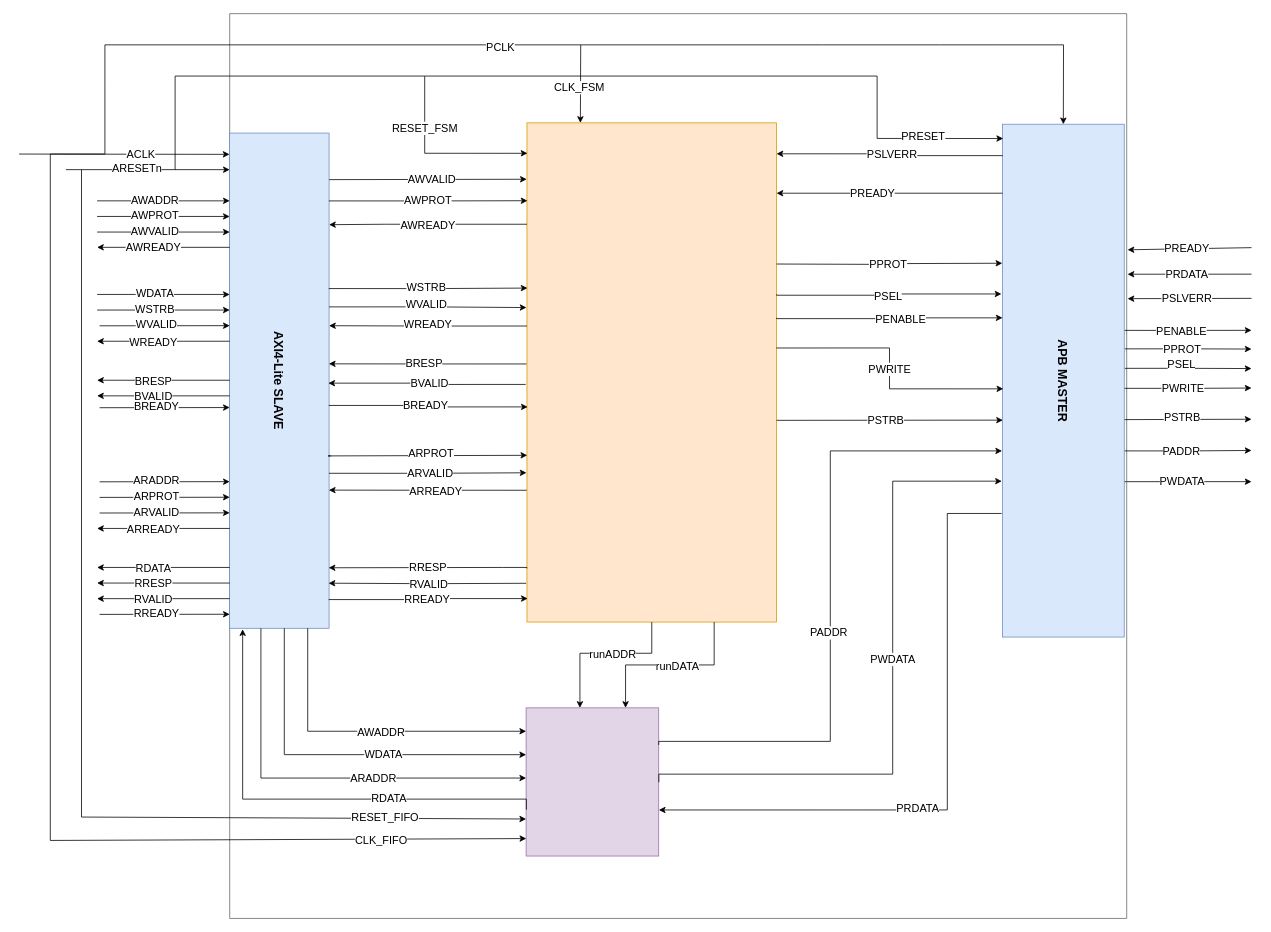
The diagram is 1271 pixels wide and 932 high, and some of its shapes have lost their labels. Here are the shapes that lost their labels. From the top down, the centre of each, then its label:
At pixel 651 372: "CONTROLLER(FSM)".
At pixel 592 781: "FIFO".
